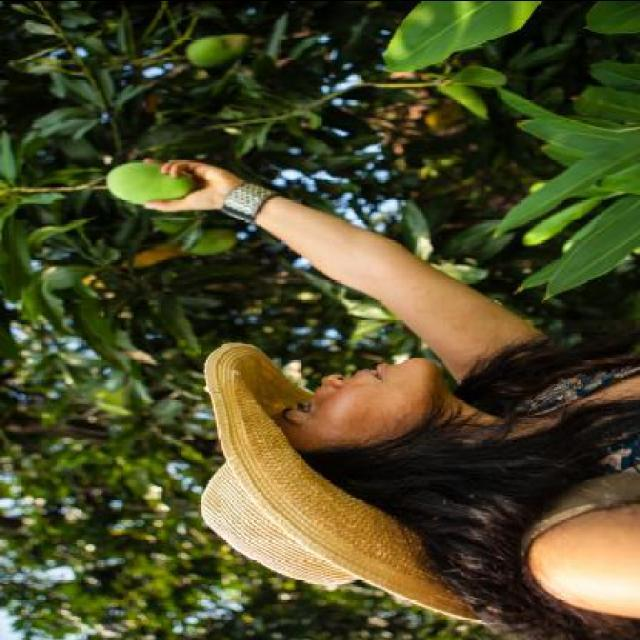Mango: (102, 158, 202, 202), (188, 34, 248, 66), (192, 230, 240, 253)
